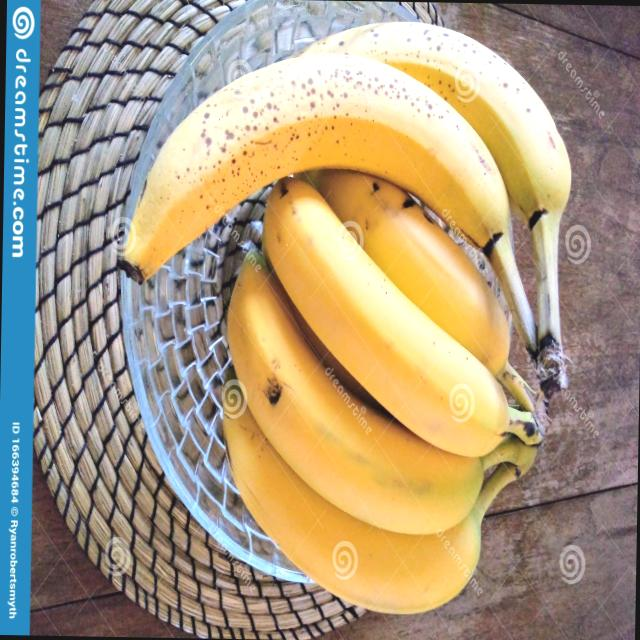banana: (110, 15, 574, 421), (210, 157, 550, 620)
